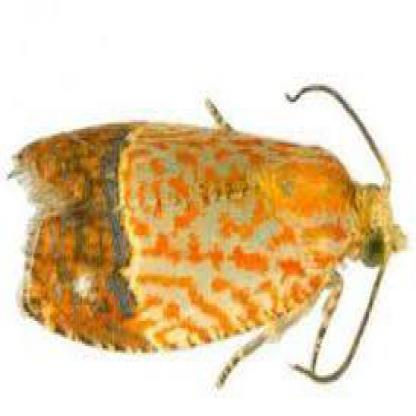Leaf Webber: (14, 81, 412, 395)
